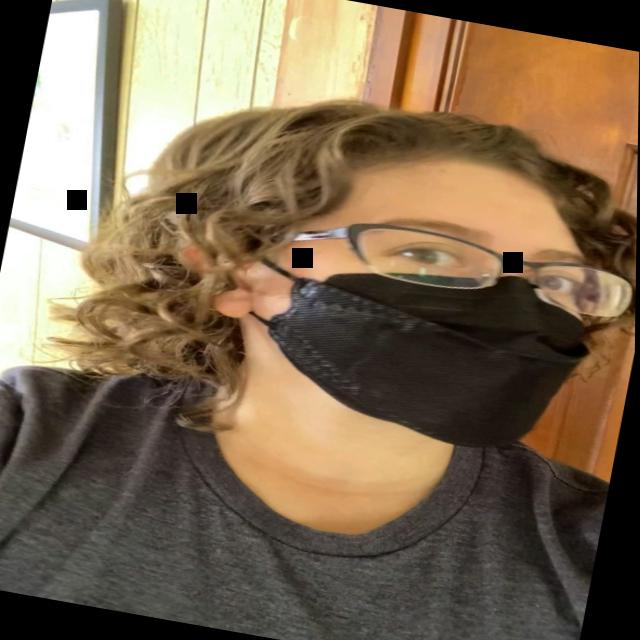Mask: (225, 119, 639, 468)
